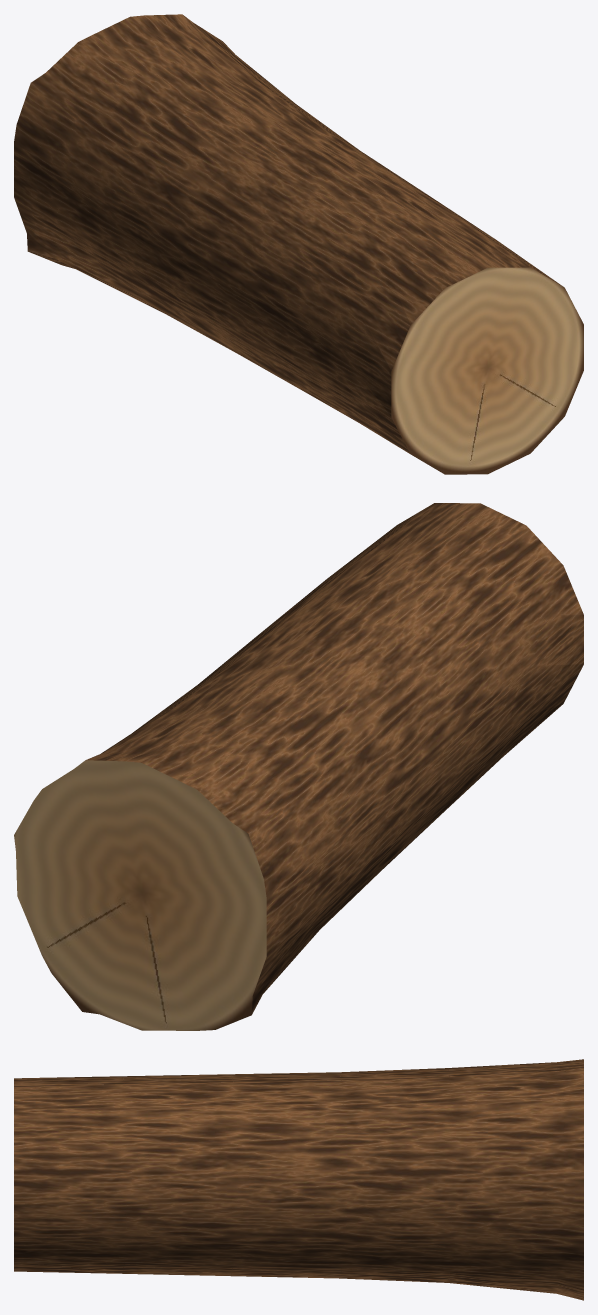
The model's file is fallen_log.glb.
3 renders of one model, top to bottom at view 1: azimuth 30°, elevation 25°; view 2: azimuth 150°, elevation 25°; view 3: azimuth 270°, elevation 25°, orthographic. The views are drawn at different scales.
Parts seen in each view (by area): view 1: FallenLogBark; view 2: FallenLogBark; view 3: FallenLogBark.
Boxes of the visible parts, x1=… form: FallenLogBark: x1=14, y1=14, x2=583, y2=474; FallenLogBark: x1=14, y1=503, x2=583, y2=1030; FallenLogBark: x1=14, y1=1059, x2=583, y2=1300.
Size of the model in its own units: 0.7366 by 0.746 by 1.83.
2 materials, 2 textured.
